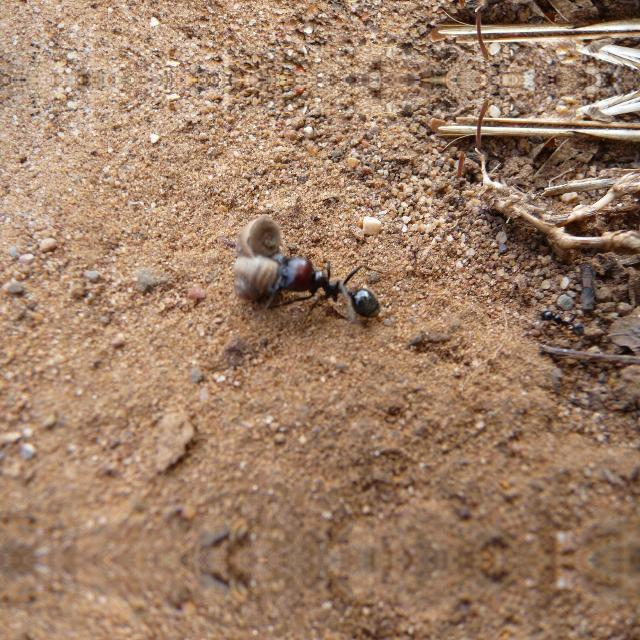Messor: (265, 225, 393, 327), (526, 308, 590, 344)
